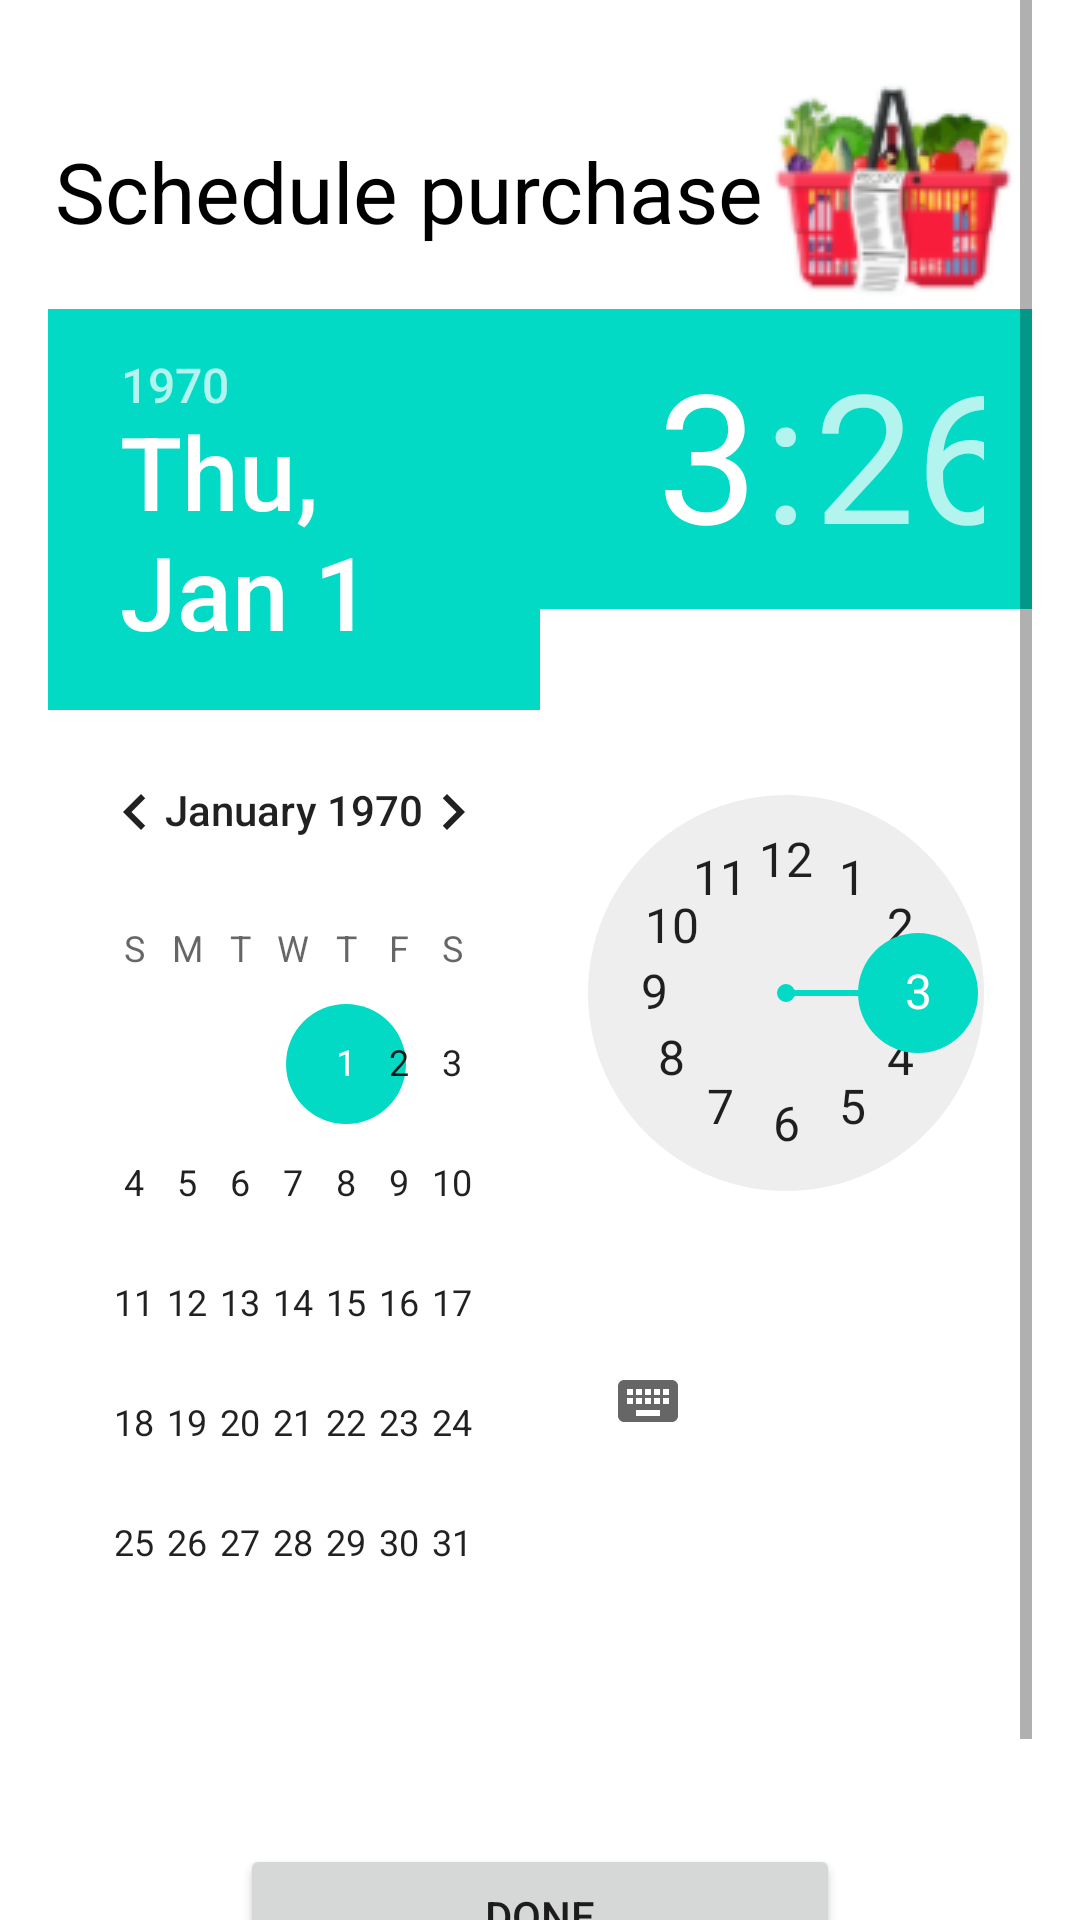

Where to tap for icons on this 1080×1920 app screen, as (x,y):
shop: (894,184)
